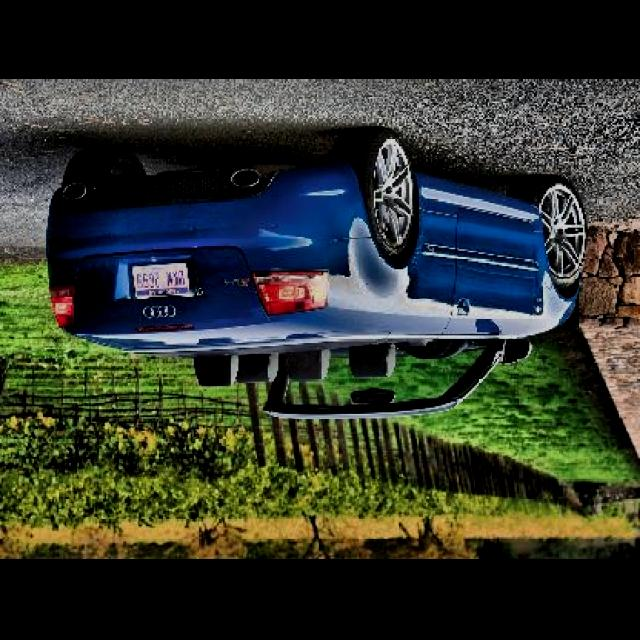blue: (13, 182, 622, 418)
